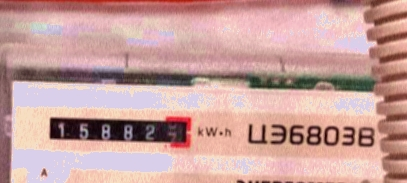1: (55, 120, 66, 139)
2: (143, 122, 155, 140)
5: (76, 121, 89, 139)
7: (165, 130, 177, 143)
8: (99, 122, 111, 139), (122, 123, 133, 140)
screen: (41, 105, 198, 152)
